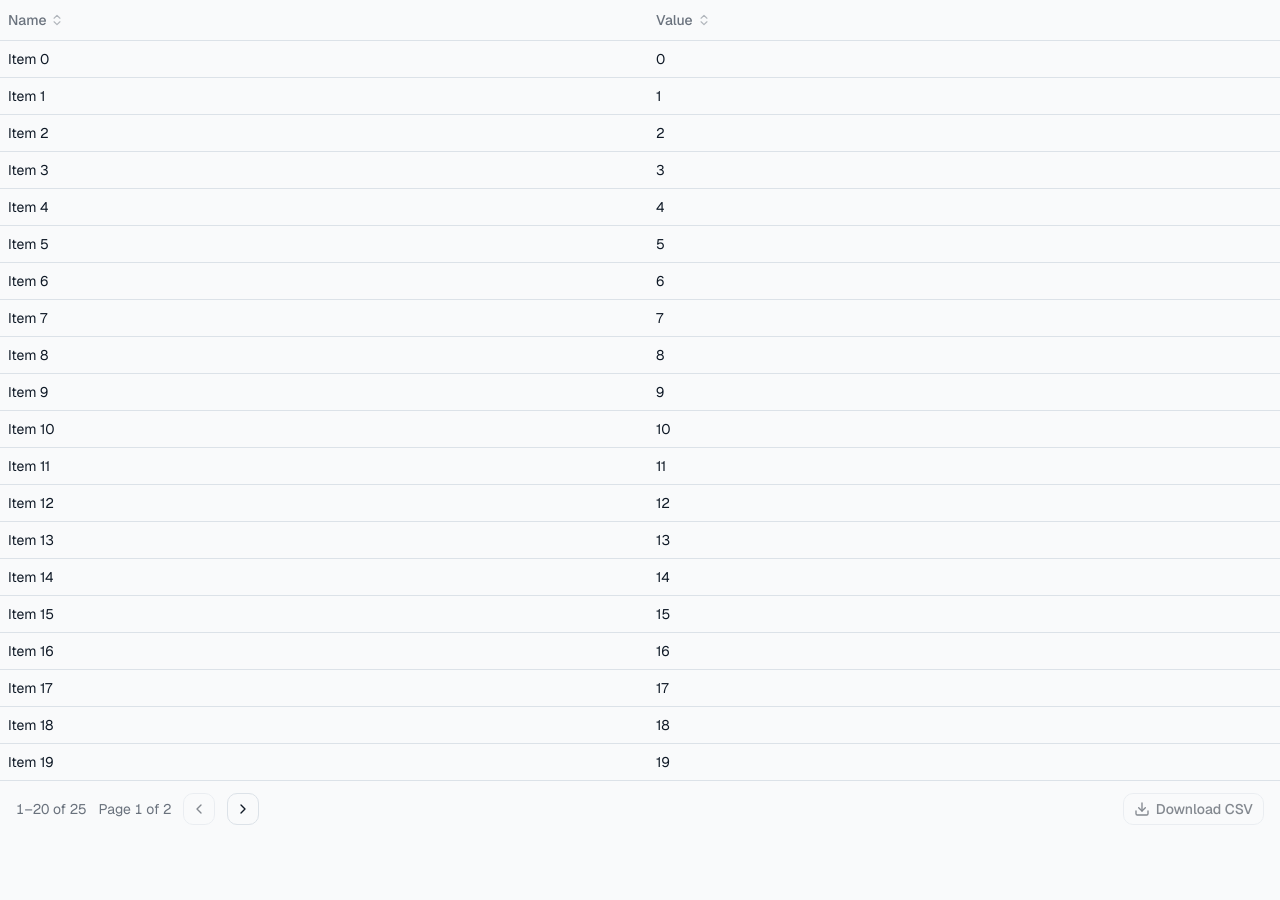
Test case: DataTable › navigates to next page
Step 1. Click the button named "Next page" → (243, 808), box [227,792,259,824]
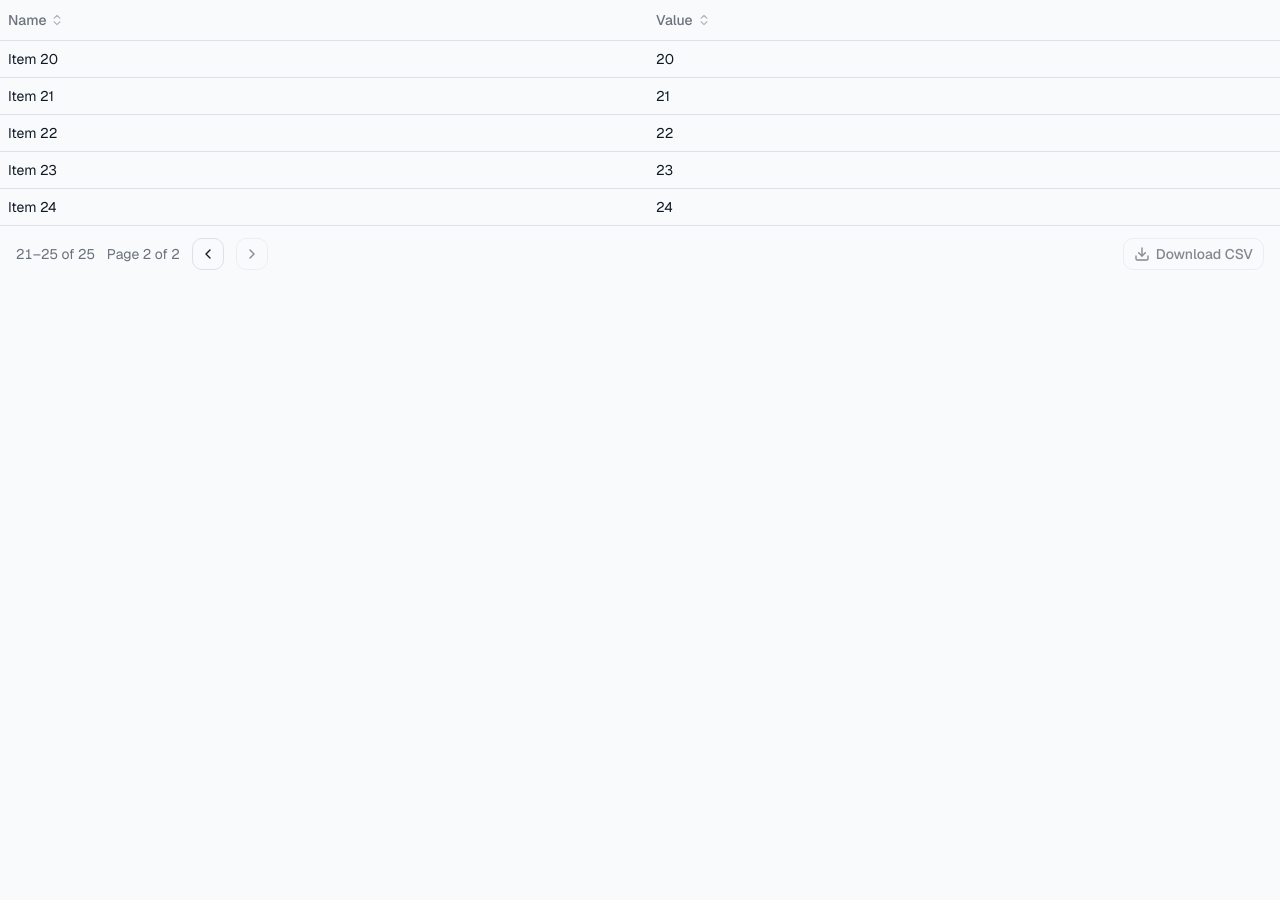
Expected: the text "Item 20" is shown, [0,40,648,77]
Expected: the text "Item 0" is gone
